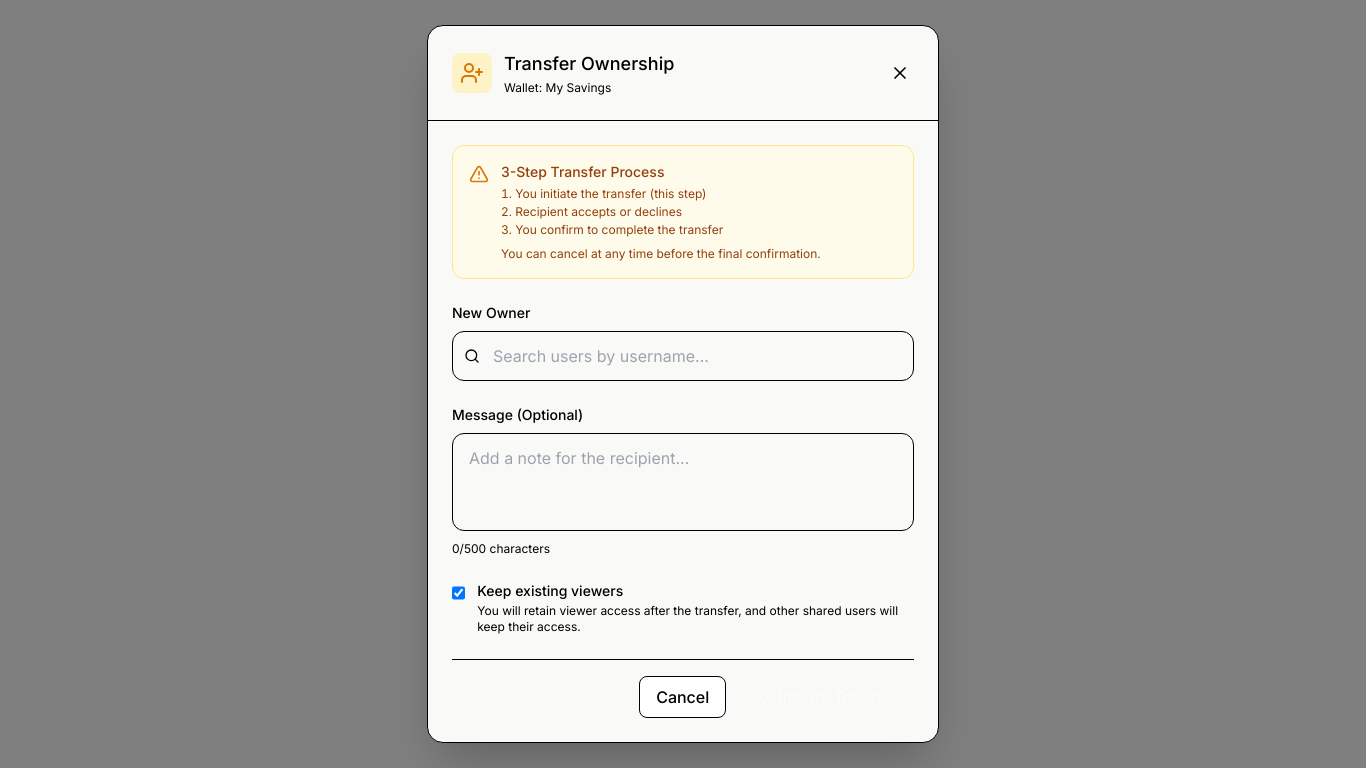
Test: TransferOwnershipModal › user search › displays search results
Step 1. Type "alice" into the field with placeholder "Search users by username..." → (683, 356), box [452, 331, 914, 381]
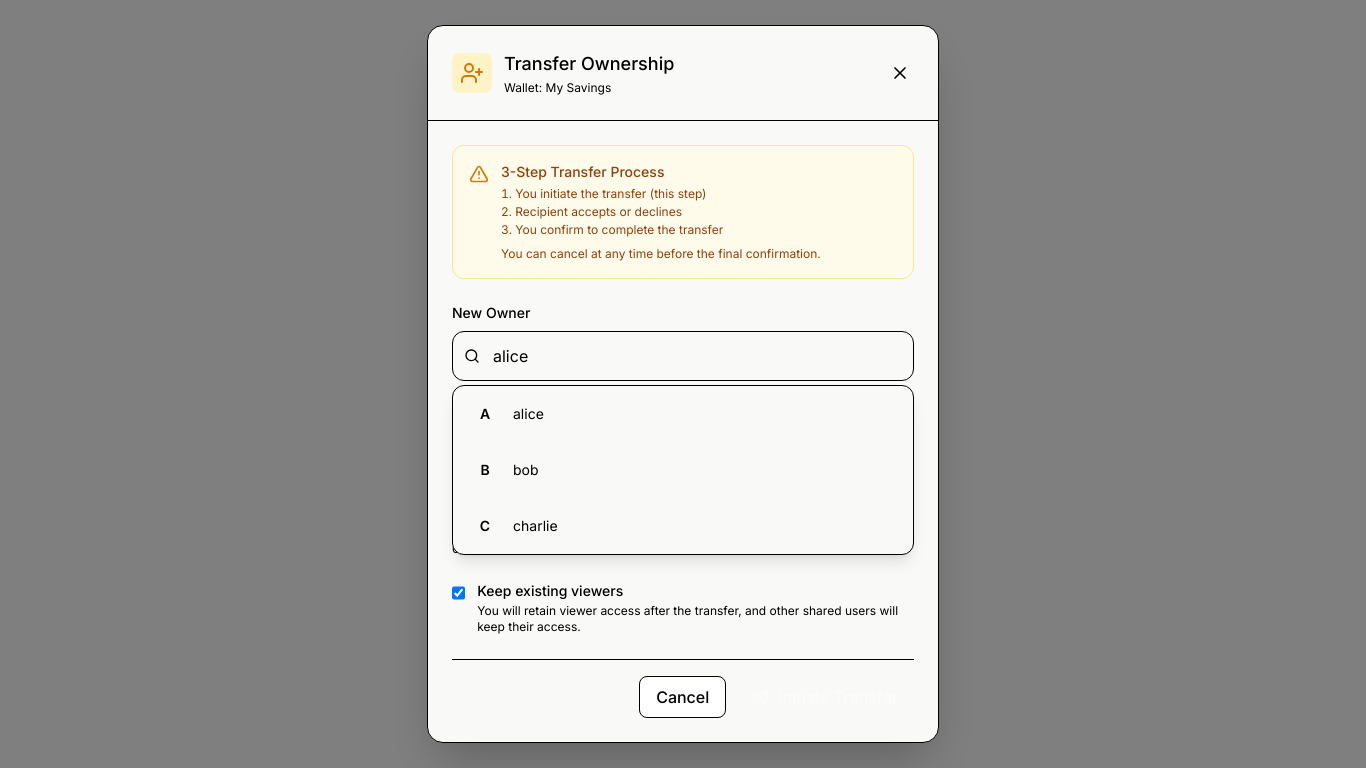
expect the text "alice" is shown: met, box [513, 404, 544, 424]
expect the text "bob" is shown: met, box [513, 460, 538, 480]
expect the text "charlie" is shown: met, box [513, 516, 558, 536]
